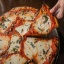pizza: (1, 7, 59, 59)
